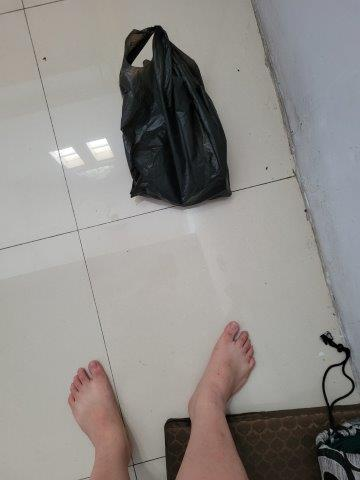plastik: (122, 25, 233, 207)
